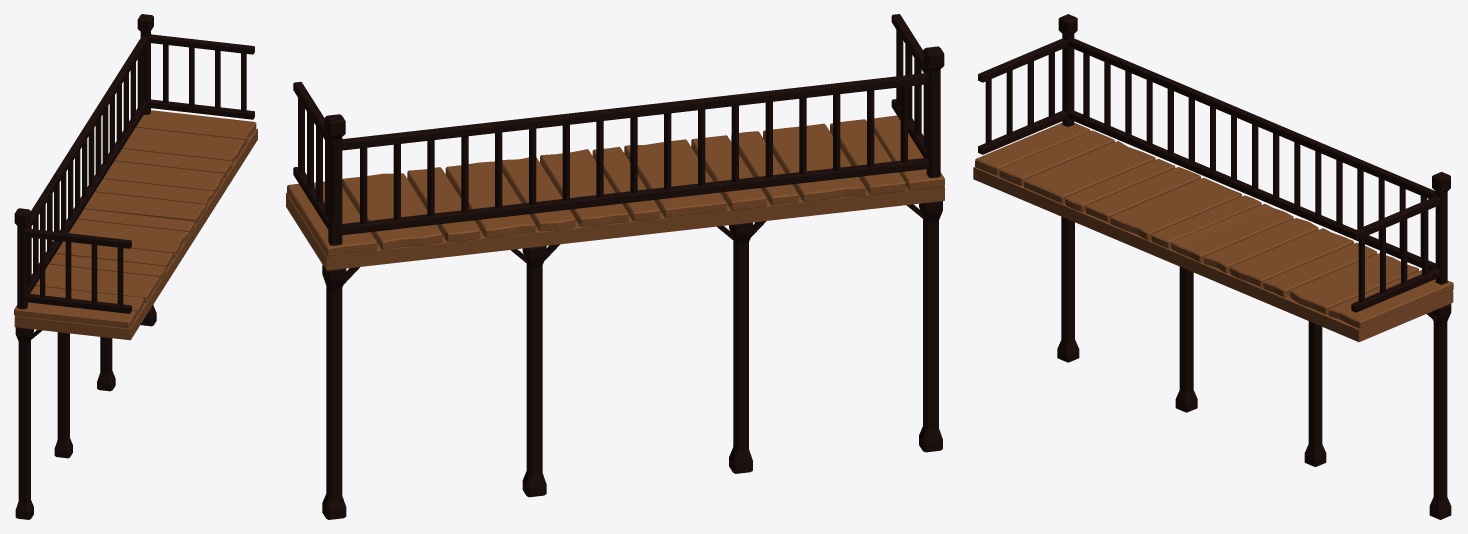
The model's file is ww_balcony_with_railing_b.glb.
3 renders of one model, left to right at view 1: azimuth 30°, elevation 25°; view 2: azimuth 150°, elevation 25°; view 3: azimuth 270°, elevation 25°, orthographic. The views are drawn at different scales.
Parts seen in each view (by area): view 1: Balcony_With_Railing_B; view 2: Balcony_With_Railing_B; view 3: Balcony_With_Railing_B.
Part boxes in pixels (bbox=[...]): Balcony_With_Railing_B: bbox=[14, 14, 257, 519]; Balcony_With_Railing_B: bbox=[286, 14, 944, 519]; Balcony_With_Railing_B: bbox=[973, 14, 1453, 519].
Bounding box in the file's own units: 6.52 × 5.1 × 6.52.
